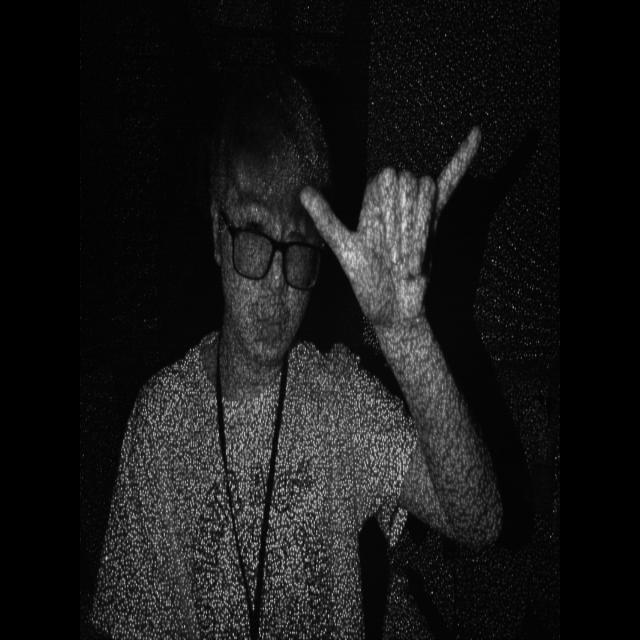Y: (289, 117, 489, 318)
